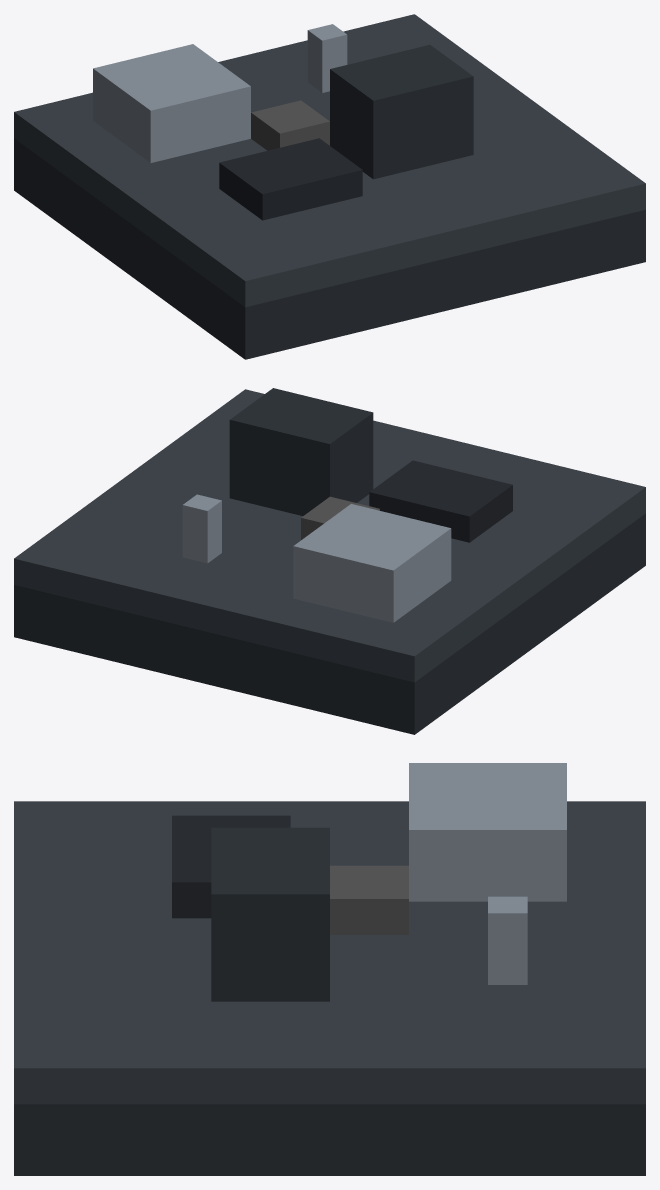
Rendered from tile_debris.glb.
3 renders of one model, top to bottom at view 1: azimuth 30°, elevation 25°; view 2: azimuth 150°, elevation 25°; view 3: azimuth 270°, elevation 25°, orthographic. The views are drawn at different scales.
Parts seen in each view (by area): view 1: Top mesh, Rubble mesh, Base mesh, Shard mesh; view 2: Top mesh, Rubble mesh, Base mesh, Shard mesh; view 3: Top mesh, Rubble mesh, Base mesh, Shard mesh.
Boxes of the visible parts, bbox=[...] form: Top mesh: bbox=[14, 14, 645, 307]; Rubble mesh: bbox=[93, 44, 473, 220]; Base mesh: bbox=[14, 138, 645, 359]; Shard mesh: bbox=[251, 24, 347, 150]; Top mesh: bbox=[14, 389, 645, 682]; Rubble mesh: bbox=[229, 388, 512, 622]; Base mesh: bbox=[14, 513, 645, 734]; Shard mesh: bbox=[182, 494, 379, 563]; Top mesh: bbox=[14, 801, 645, 1104]; Rubble mesh: bbox=[172, 763, 566, 1001]; Base mesh: bbox=[14, 1104, 645, 1175]; Shard mesh: bbox=[330, 865, 527, 984].
Bounding box in the file's own units: 16 × 6 × 16.
Materials: 1 (1 with a texture image).
